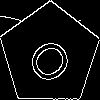O: (25, 30, 82, 88)
